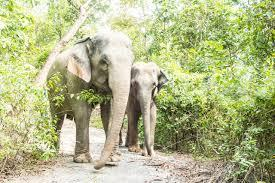elephant: (47, 31, 167, 161)
